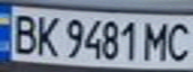1: (118, 17, 142, 61)
4: (81, 16, 103, 60)
8: (100, 17, 121, 61)
9: (60, 15, 84, 60)
B: (6, 10, 42, 55)
C: (163, 19, 193, 63)
K: (33, 12, 60, 57)
M: (142, 18, 175, 62)
